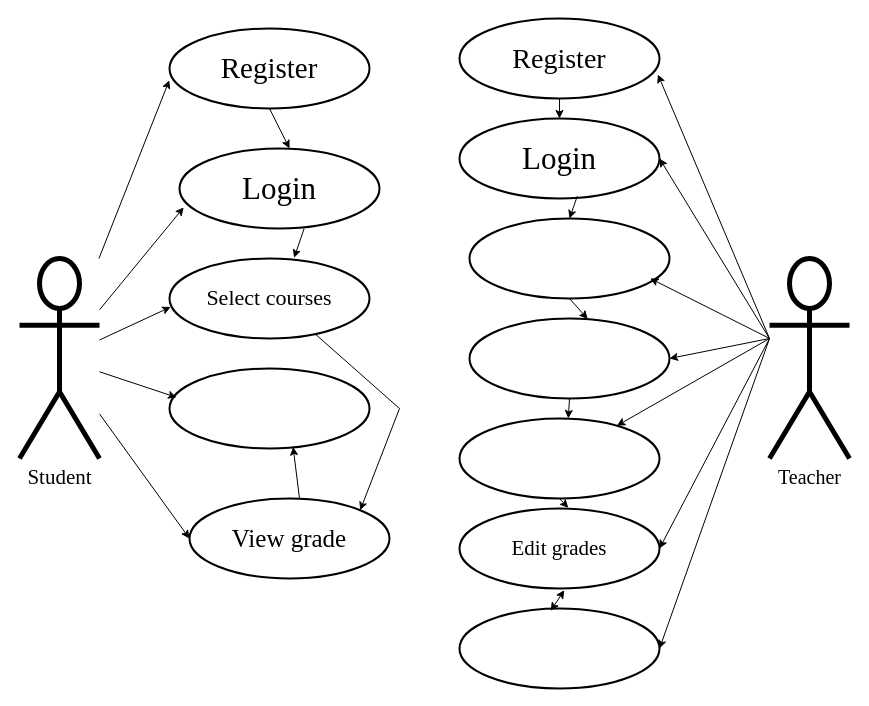
The diagram is 869 pixels wide and 706 high, and some of its shapes have lost their labels. The shapes that lost their labels are listed below. From the top down, each one's centre as x and y in pixels, then its label:
At point (569, 258): "Select department".
At point (569, 358): "View student list".
At point (269, 408): "Report incorrect grade".
At point (559, 458): "View grades".
At point (559, 648): "View grades reports".
